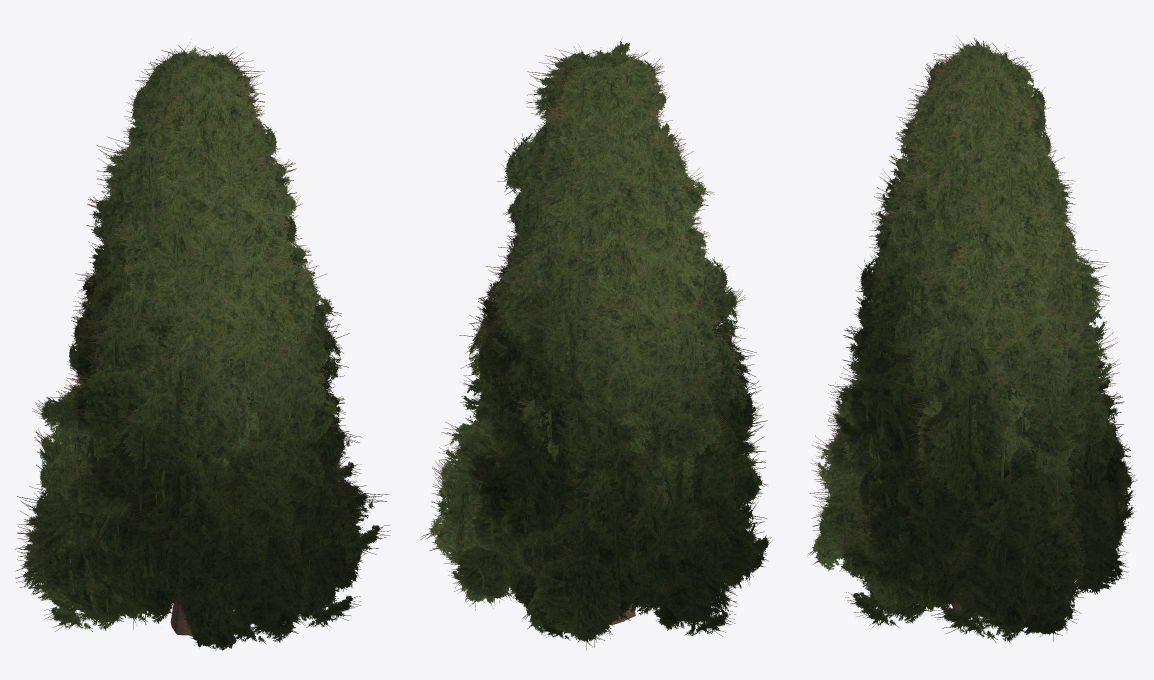
Rendered from trees_fir.glb.
3 renders of one model, left to right at view 1: azimuth 30°, elevation 25°; view 2: azimuth 150°, elevation 25°; view 3: azimuth 270°, elevation 25°, orthographic. The views are drawn at different scales.
Parts seen in each view (by area): view 1: tree_fir_leaves, tree_fir_leaves_far, tree_fir_b_leaves, tree_fir_b_leaves_far; view 2: tree_fir_leaves_far, tree_fir_leaves, tree_fir_b_leaves_far, tree_fir_b_leaves; view 3: tree_fir_leaves_far, tree_fir_leaves, tree_fir_b_leaves_far, tree_fir_b_leaves.
Boxes of the visible parts, x1,y1,x2,y2 form: tree_fir_leaves: (33, 45, 366, 633); tree_fir_leaves_far: (15, 42, 389, 644); tree_fir_b_leaves: (59, 269, 338, 650); tree_fir_b_leaves_far: (41, 286, 360, 631); tree_fir_leaves_far: (420, 39, 767, 650); tree_fir_leaves: (436, 48, 771, 633); tree_fir_b_leaves_far: (438, 307, 752, 636); tree_fir_b_leaves: (462, 261, 709, 640); tree_fir_leaves_far: (807, 35, 1131, 642); tree_fir_leaves: (812, 55, 1137, 625); tree_fir_b_leaves_far: (835, 258, 1125, 641); tree_fir_b_leaves: (837, 302, 1120, 619).
Bounding box in the file's own units: 11.13 × 19.24 × 9.98.
Materials: 2 (2 with a texture image).
